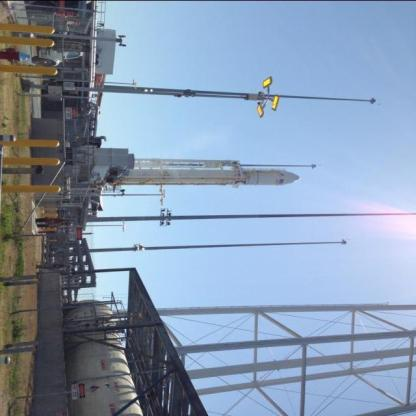MIL_TBM: (119, 164, 302, 188)
